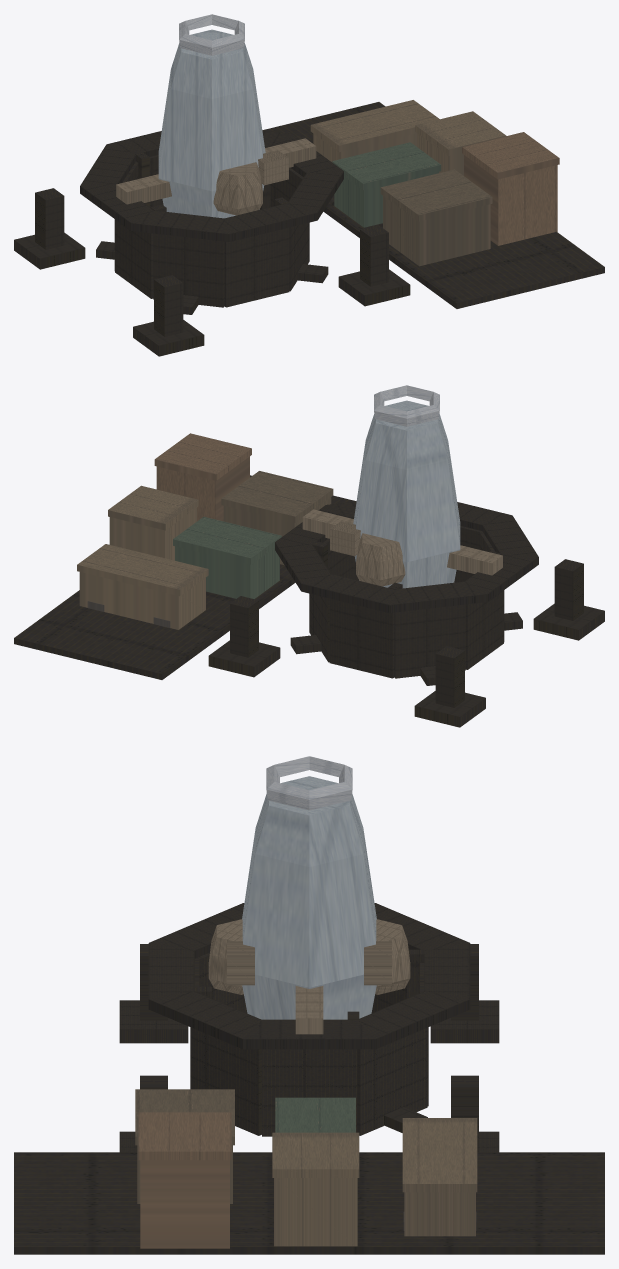
The model's file is cargo_port_lod2.glb.
The picture shows the model from 3 angles, top to bottom: view 1: azimuth 30°, elevation 25°; view 2: azimuth 150°, elevation 25°; view 3: azimuth 270°, elevation 25°; orthographic projection. The views are drawn at different scales.
Visible parts, largest first — view 1: LOD2_cargo_port, LOD2_pod, LOD2_crate_0, LOD2_crate_1, LOD2_cradle, LOD2_crate_2, LOD2_crate_4, LOD2_crate_3; view 2: LOD2_cargo_port, LOD2_pod, LOD2_crate_4, LOD2_crate_2, LOD2_crate_1, LOD2_cradle, LOD2_crate_0, LOD2_crate_3; view 3: LOD2_cargo_port, LOD2_pod, LOD2_crate_1, LOD2_crate_3, LOD2_crate_4, LOD2_cradle, LOD2_crate_0, LOD2_crate_2.
Boxes of the visible parts, box(x1,y1,x2,y2) form: LOD2_cargo_port: box(14, 102, 604, 356); LOD2_pod: box(158, 14, 265, 218); LOD2_crate_0: box(380, 169, 492, 266); LOD2_crate_1: box(462, 132, 559, 245); LOD2_cradle: box(116, 138, 316, 215); LOD2_crate_2: box(332, 142, 441, 227); LOD2_crate_4: box(310, 100, 439, 162); LOD2_crate_3: box(415, 111, 506, 175); LOD2_cargo_port: box(14, 475, 604, 727); LOD2_pod: box(353, 385, 460, 588); LOD2_crate_4: box(77, 544, 208, 629); LOD2_crate_2: box(173, 516, 281, 598); LOD2_crate_1: box(154, 433, 251, 521); LOD2_cradle: box(302, 509, 502, 586); LOD2_crate_0: box(221, 471, 333, 565); LOD2_crate_3: box(108, 485, 198, 560); LOD2_cargo_port: box(14, 903, 604, 1254); LOD2_pod: box(242, 756, 376, 1019); LOD2_crate_1: box(138, 1112, 231, 1248); LOD2_crate_3: box(272, 1132, 359, 1246); LOD2_crate_4: box(402, 1118, 477, 1236); LOD2_cradle: box(208, 919, 410, 1034); LOD2_crate_0: box(135, 1089, 234, 1203); LOD2_crate_2: box(275, 1097, 355, 1132).
Size of the model in its own units: 1.98 by 1.14 by 1.9.
1 material, 1 textured.
